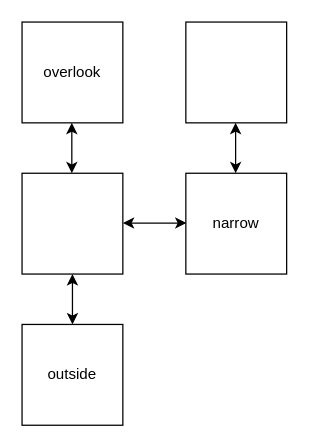
The diagram is 309 pixels wide and 447 high, and some of its shapes have lost their labels. Each missing label, with the centre of its shape:
foyer: (72,223)
treasure: (236,72)
